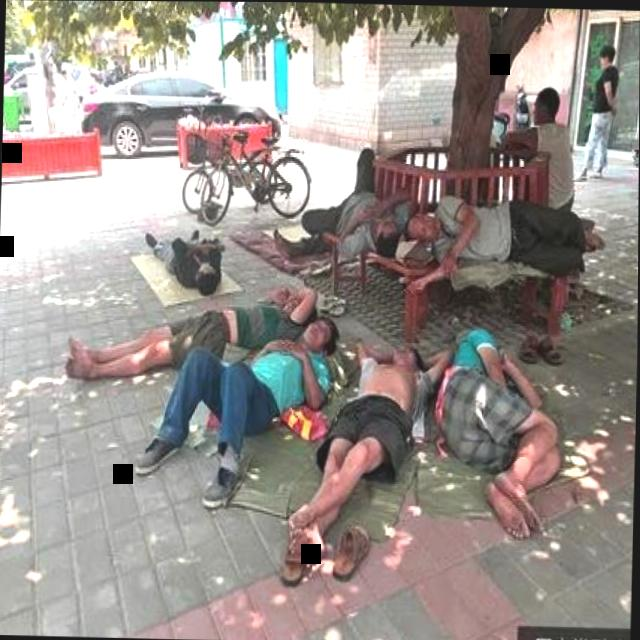Fall-Detected: (141, 206, 235, 292)
